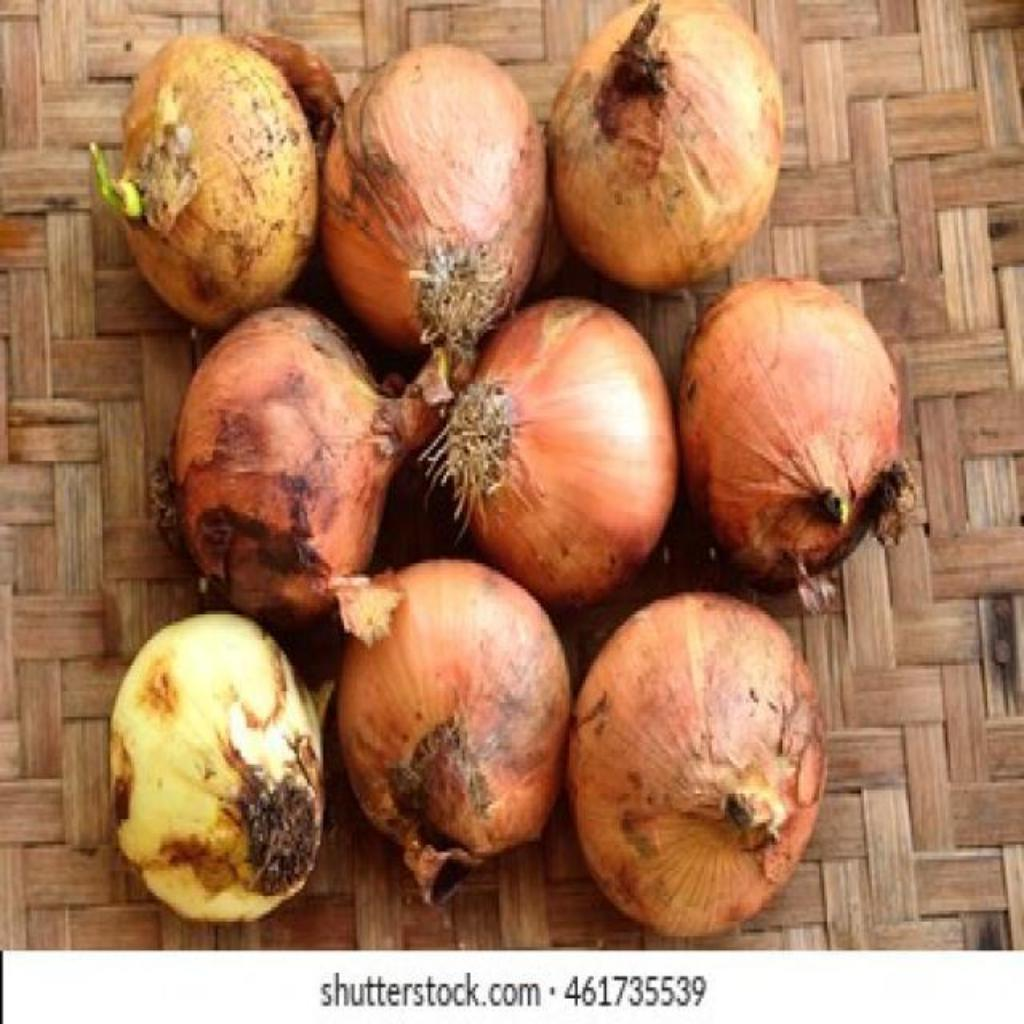Onion: (171, 307, 453, 626), (570, 594, 829, 937), (338, 562, 571, 903), (421, 298, 678, 605), (322, 43, 547, 390), (680, 278, 914, 610), (554, 2, 784, 289), (110, 616, 323, 922), (115, 37, 339, 327)
